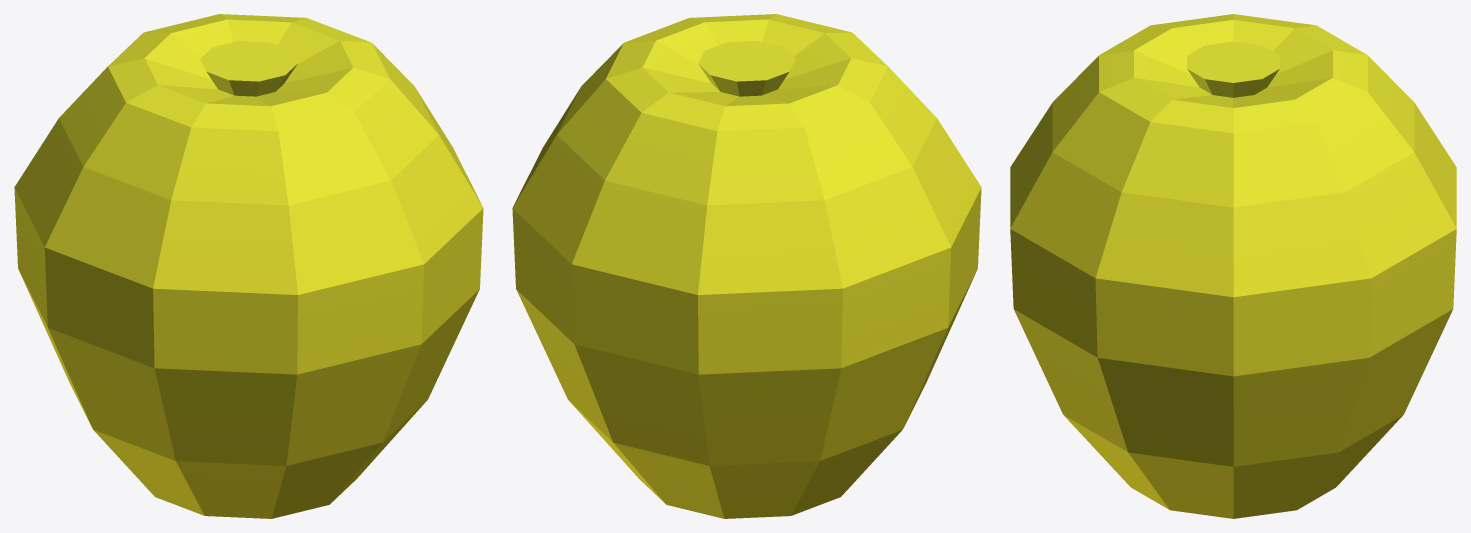
File: Quince.fbx
3 views of the same model, side by side, from view 1: azimuth 30°, elevation 25°; view 2: azimuth 150°, elevation 25°; view 3: azimuth 270°, elevation 25° (orthographic).
Visible parts, largest first — view 1: Quince; view 2: Quince; view 3: Quince.
Part boxes in pixels (x1=…): Quince: x1=14, y1=14, x2=483, y2=518; Quince: x1=512, y1=14, x2=981, y2=518; Quince: x1=1010, y1=14, x2=1456, y2=518.
Size of the model in its own units: 11.78 by 11.66 by 11.2.
